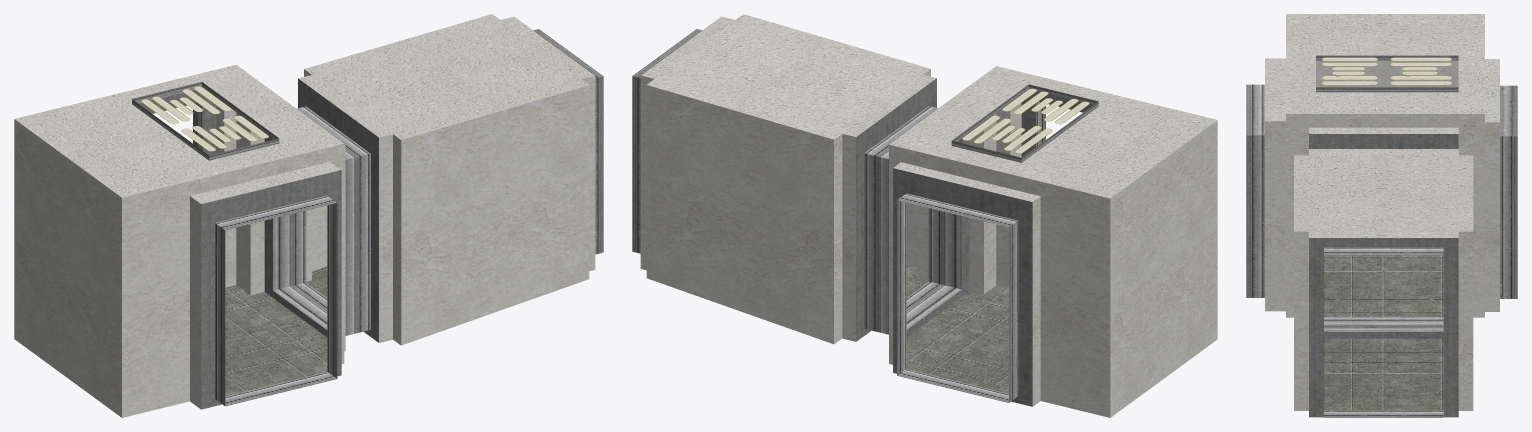
Rendered from ply_corl_house_lg_s01_fp1_r9_hallway2_mesh_r9.fbx.
The picture shows the model from 3 angles, left to right: view 1: azimuth 30°, elevation 25°; view 2: azimuth 150°, elevation 25°; view 3: azimuth 270°, elevation 25°; orthographic projection. The views are drawn at different scales.
Visible parts, largest first — view 1: mesh_node; view 2: mesh_node; view 3: mesh_node.
Part boxes in pixels (bbox=[...]): mesh_node: bbox=[14, 14, 603, 417]; mesh_node: bbox=[632, 14, 1217, 417]; mesh_node: bbox=[1246, 14, 1517, 417].
Bounding box in the file's own units: 8.95 × 3.84 × 4.54.
